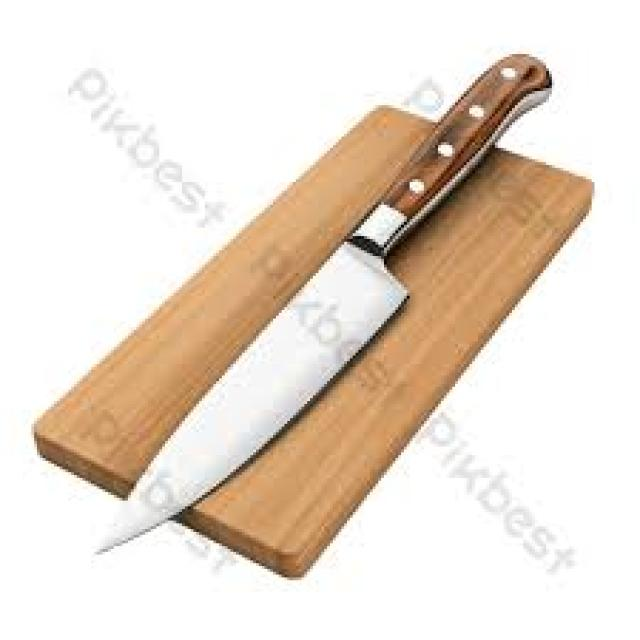Knife: (97, 54, 549, 552)
